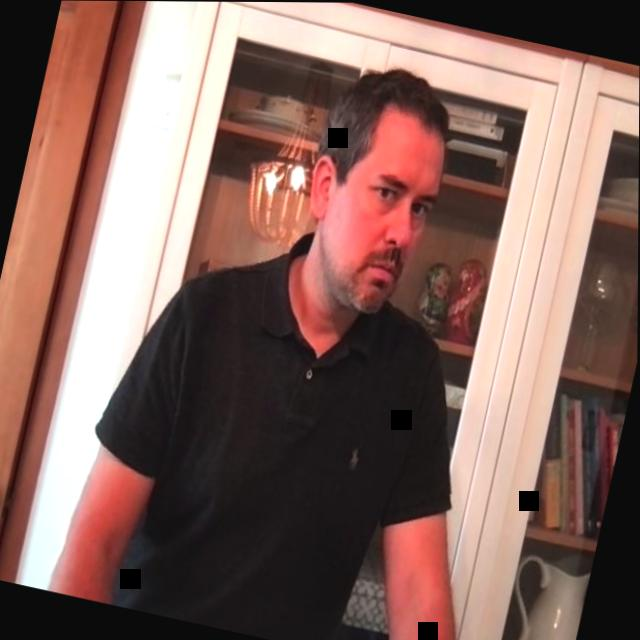NO-Mask: (284, 53, 469, 331)
